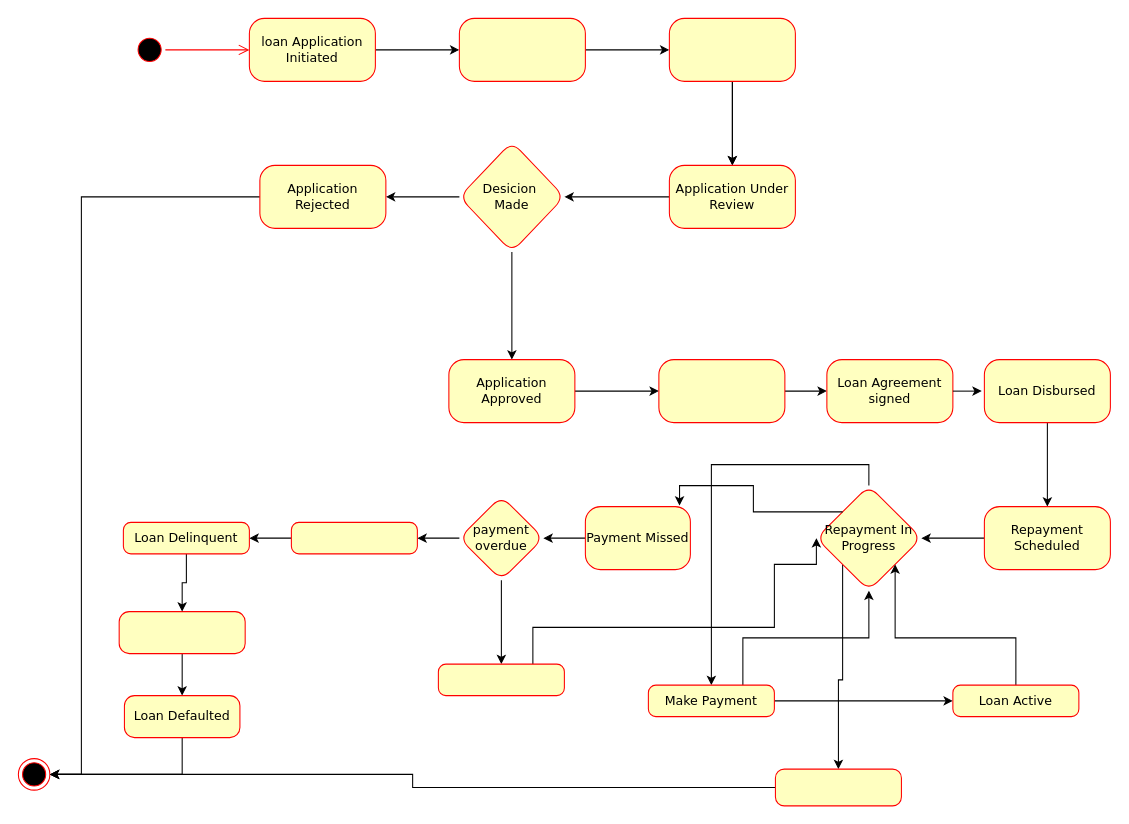
This 1129x824 diagram has some shape labels left out. Each missing label, with the centre of its shape:
"Application Processing" belongs at point (731, 49).
"Default Procedures Initiated" belongs at point (181, 632).
"Loan Agreement Preparation" belongs at point (721, 391).
"Loan Application Submitted" belongs at point (521, 49).
"Loan fully paid" belongs at point (837, 787).
"No Payment Received" belongs at point (353, 537).
"Payment Received" belongs at point (500, 679).
